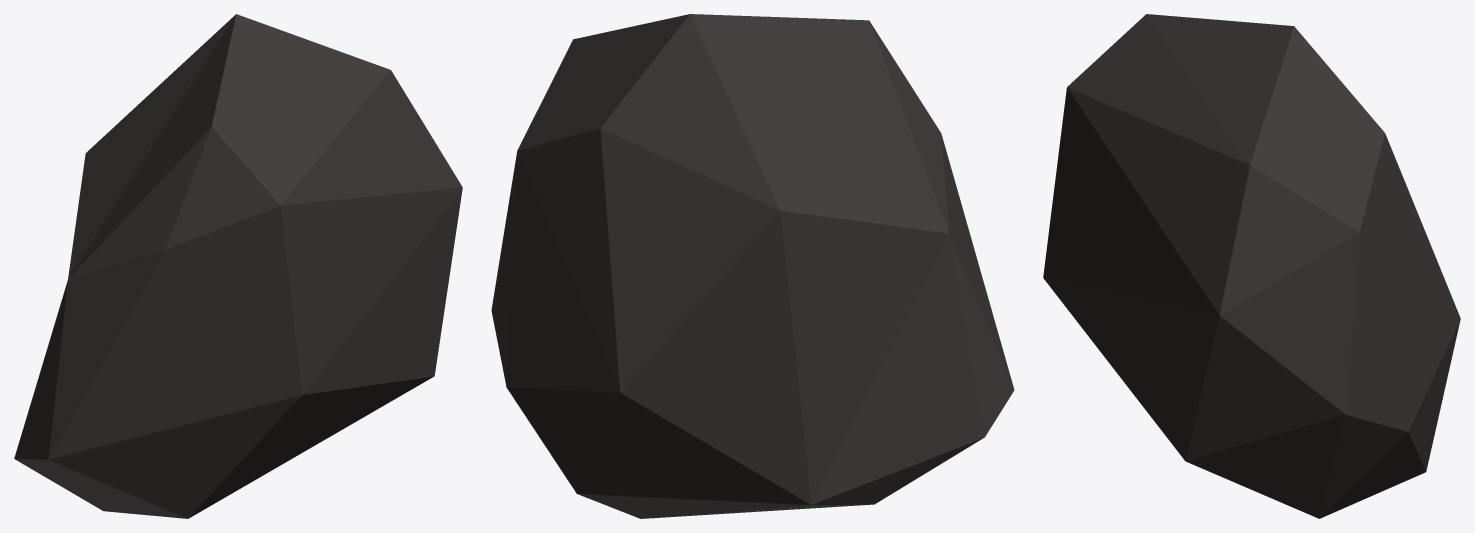
The model's file is Rock_3_LOD_1.fbx.
3 views of the same model, side by side, from view 1: azimuth 30°, elevation 25°; view 2: azimuth 150°, elevation 25°; view 3: azimuth 270°, elevation 25° (orthographic). The views are drawn at different scales.
Parts seen in each view (by area): view 1: Group6327; view 2: Group6327; view 3: Group6327.
Part boxes in pixels (left/top/right/bottom): Group6327: left=14, top=14, right=462, bottom=518; Group6327: left=491, top=14, right=1014, bottom=518; Group6327: left=1043, top=14, right=1460, bottom=518.
Size of the model in its own units: 6.96 by 6.97 by 5.63.
